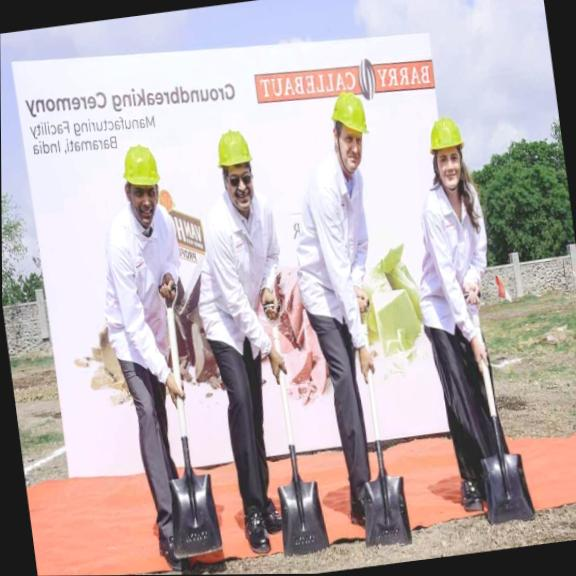no_safety_vest: (284, 164, 394, 338), (400, 178, 497, 345), (189, 193, 280, 367), (96, 201, 190, 369)
